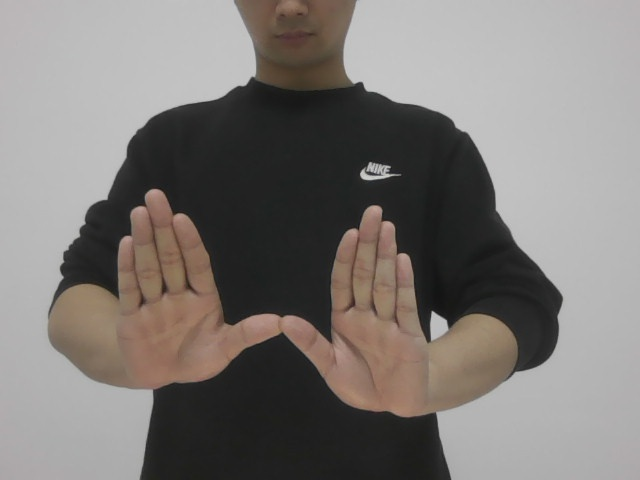door: (107, 179, 443, 420)
